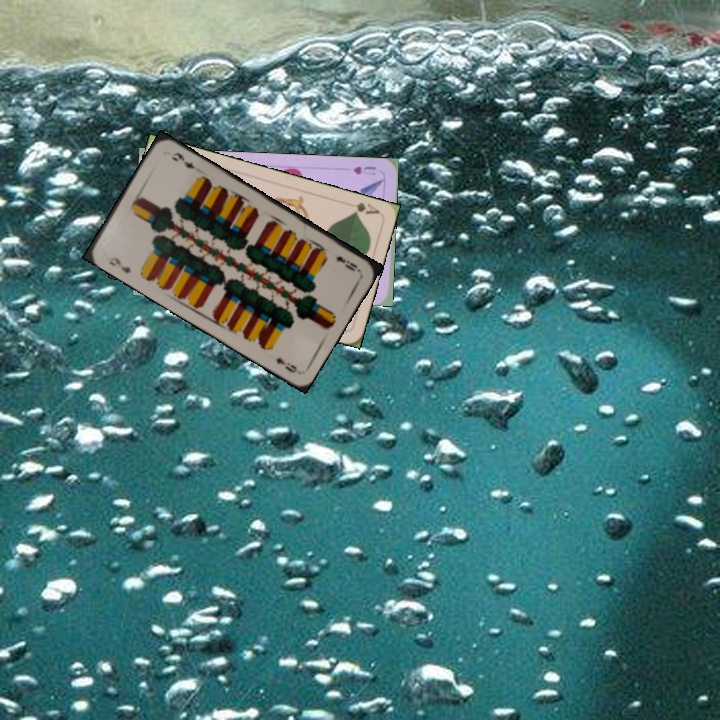E9: (102, 251, 134, 276), (331, 252, 362, 274)
GA: (349, 198, 382, 217)
HU: (349, 162, 378, 177)
